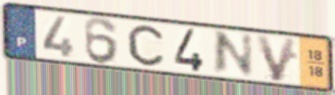4: (41, 15, 77, 59), (173, 27, 206, 73)
6: (83, 15, 121, 67)
C: (126, 24, 166, 68)
N: (211, 30, 256, 77)
V: (253, 33, 299, 83)
